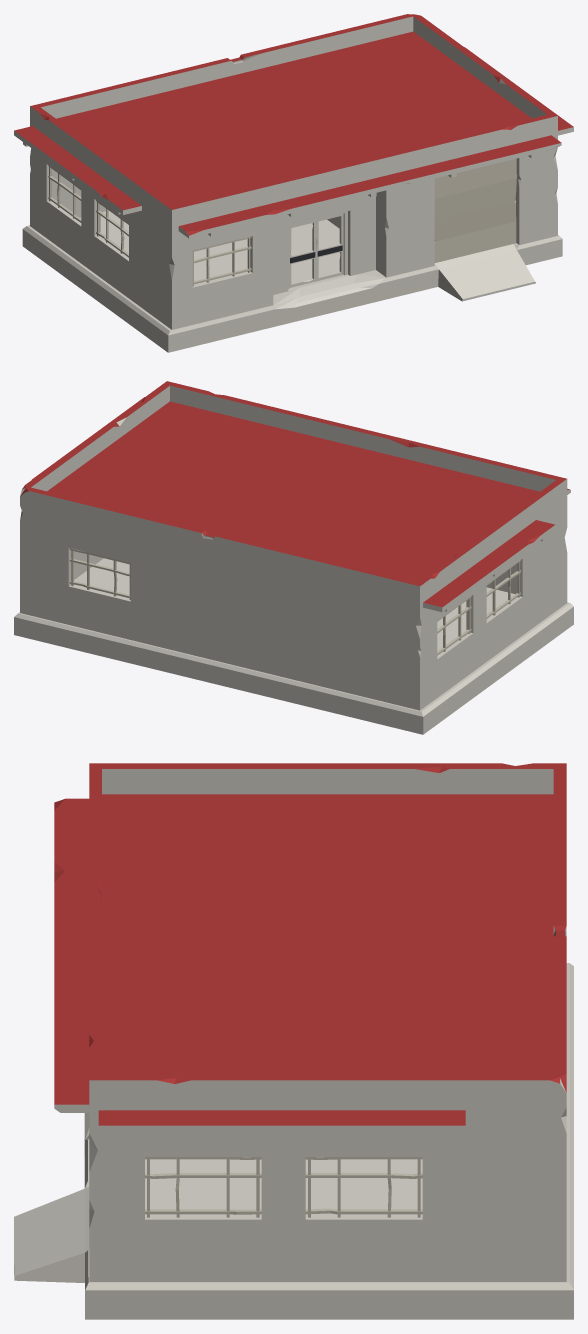
The model's file is syn-market.glb.
The picture shows the model from 3 angles, top to bottom: view 1: azimuth 30°, elevation 25°; view 2: azimuth 150°, elevation 25°; view 3: azimuth 270°, elevation 25°; orthographic projection. The views are drawn at different scales.
Parts seen in each view (by area): view 1: SM_Bld_GasStation_01, SM_Bld_GasStation_GarageDoor_01, SM_Bld_GasStation_Door_01, SM_Bld_GasStation_Door_02; view 2: SM_Bld_GasStation_01; view 3: SM_Bld_GasStation_01.
Boxes of the visible parts, x1,y1,x2,y2 form: SM_Bld_GasStation_01: (14,14,573,352); SM_Bld_GasStation_GarageDoor_01: (434,158,516,262); SM_Bld_GasStation_Door_01: (289,220,316,287); SM_Bld_GasStation_Door_02: (316,213,343,281); SM_Bld_GasStation_01: (14,381,573,734); SM_Bld_GasStation_01: (14,763,573,1319).
Bounding box in the file's own units: 15.87 × 5.03 × 10.8.
